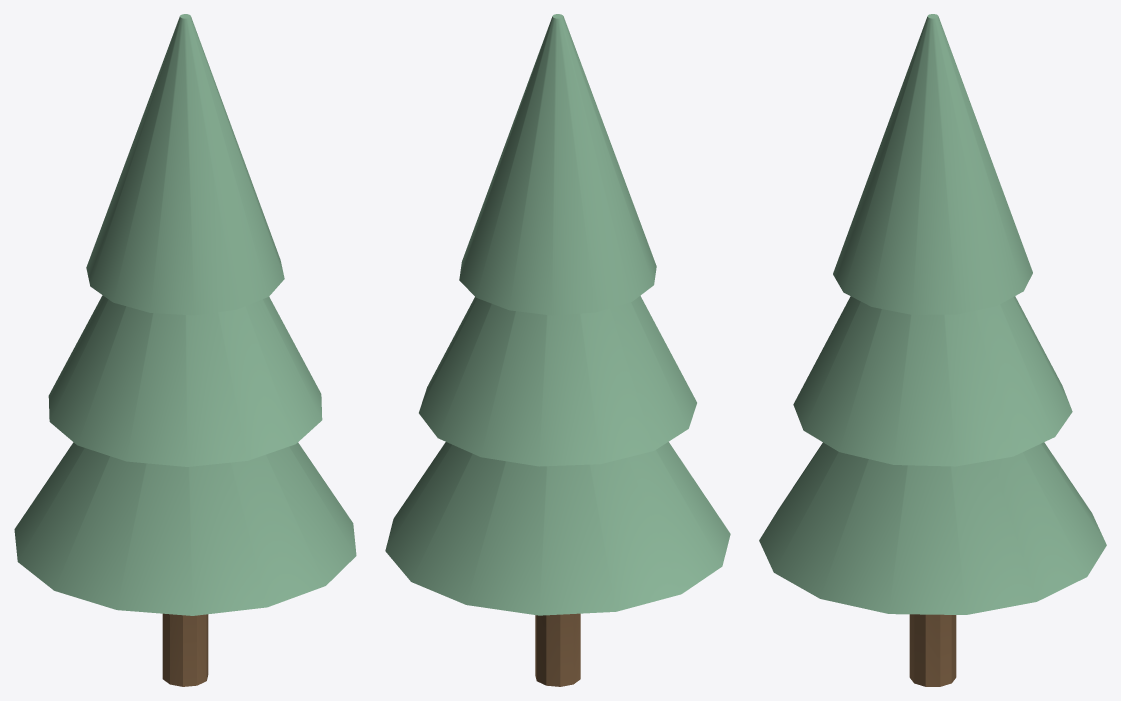
File: pine-05.envelope.glb
3 renders of one model, left to right at view 1: azimuth 30°, elevation 25°; view 2: azimuth 150°, elevation 25°; view 3: azimuth 270°, elevation 25°, orthographic.
Visible parts, largest first — view 1: pine-05.foliage, pine-05.warm; view 2: pine-05.foliage, pine-05.warm; view 3: pine-05.foliage, pine-05.warm.
Boxes of the visible parts, x1,y1,x2,y2 form: pine-05.foliage: (14,14,356,615); pine-05.warm: (162,613,208,686); pine-05.foliage: (385,14,730,615); pine-05.warm: (535,613,580,686); pine-05.foliage: (759,14,1106,614); pine-05.warm: (909,614,956,686).
Size of the model in its own units: 0.7342 by 1.57 by 0.7474.
